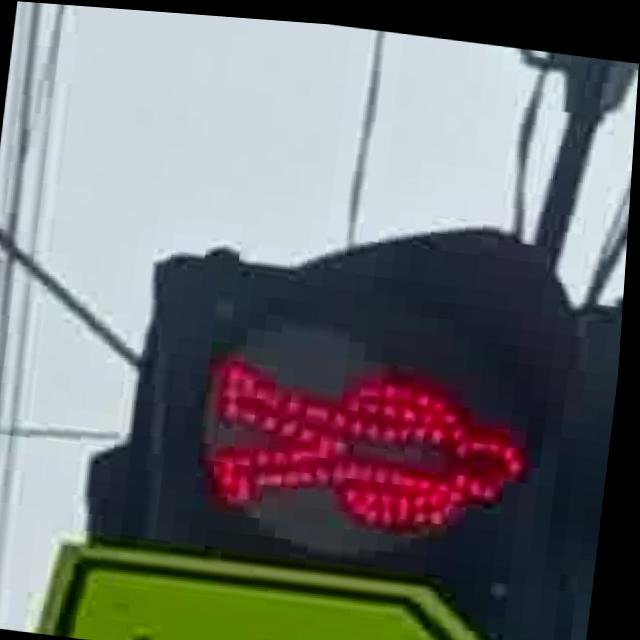red_light: (185, 318, 573, 561)
